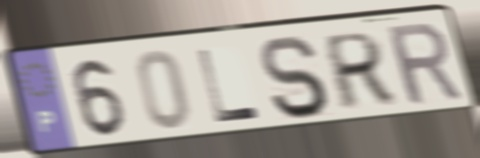0: (133, 47, 195, 135)
6: (70, 57, 129, 140)
L: (194, 46, 265, 126)
R: (382, 18, 467, 109), (323, 28, 398, 114)
S: (257, 33, 332, 121)
